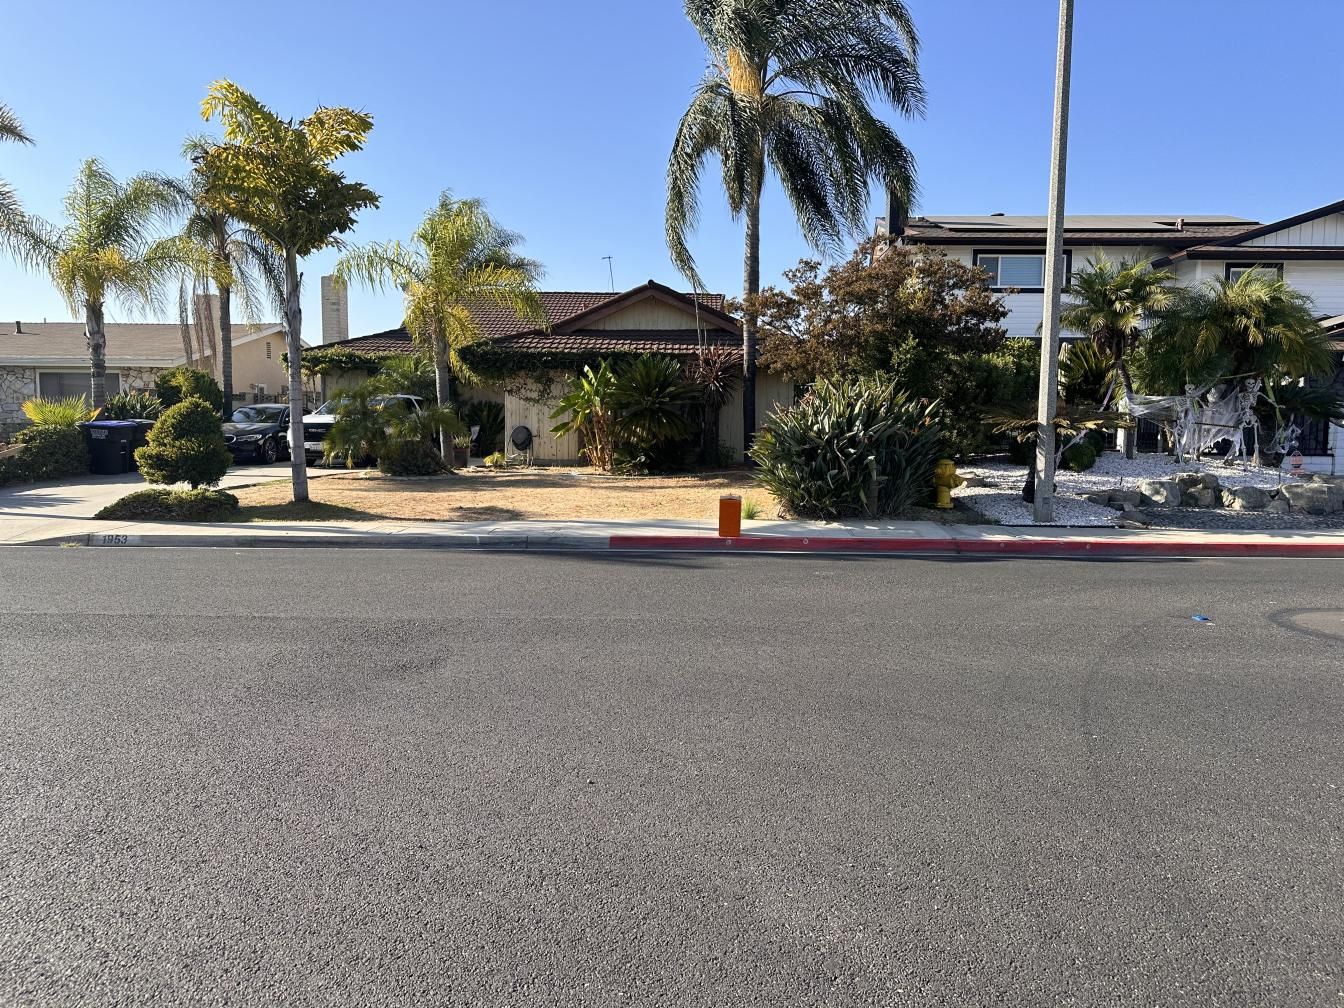curbs-laRr: (65, 529, 615, 554)
orange box: (719, 497, 747, 538)
